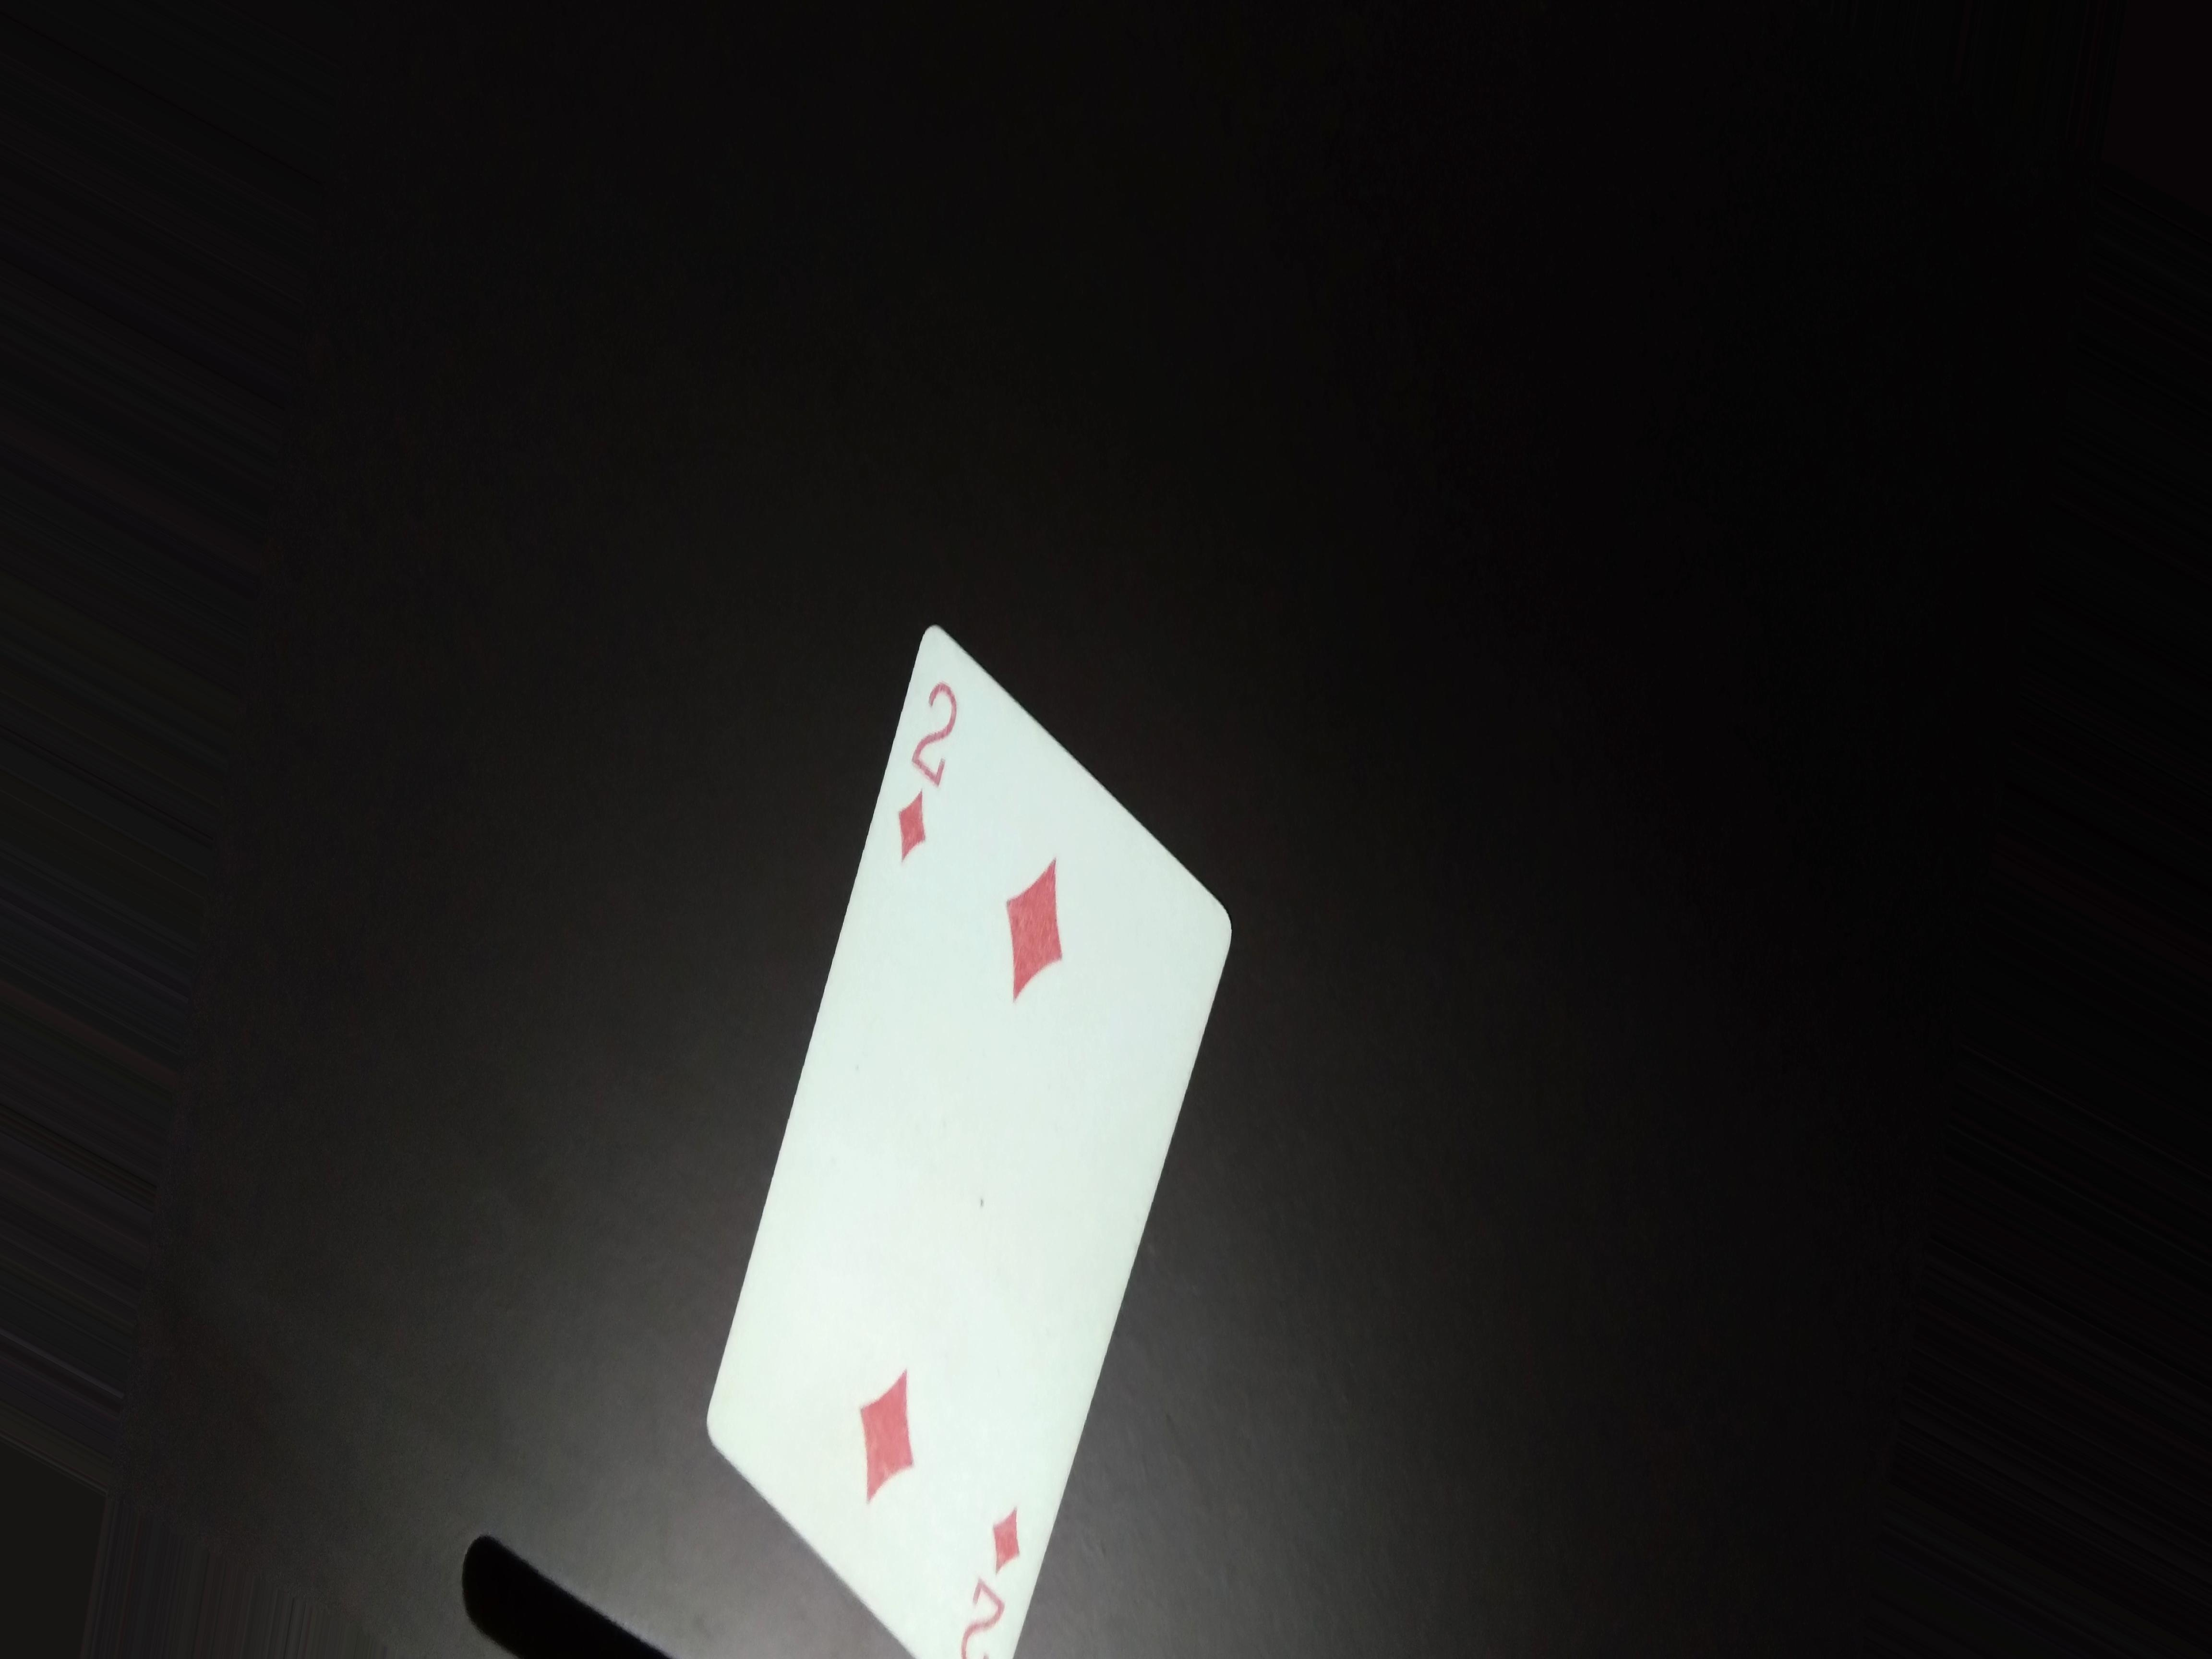2D: (876, 669, 981, 884)
